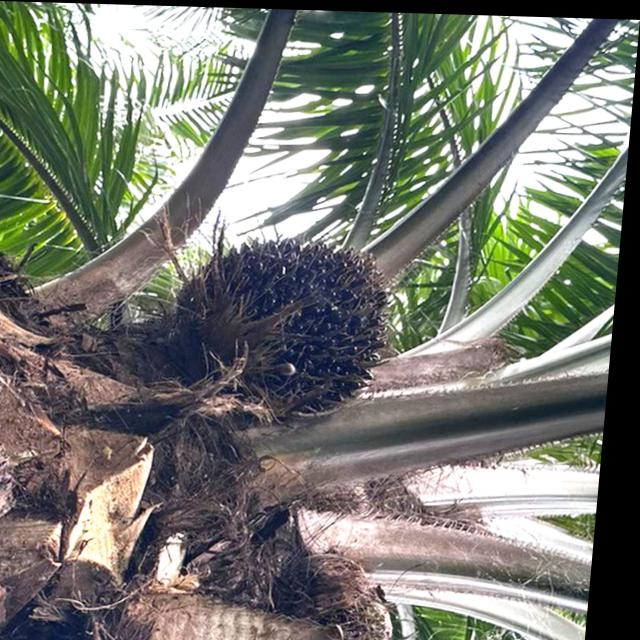unripe: (163, 215, 416, 439)
